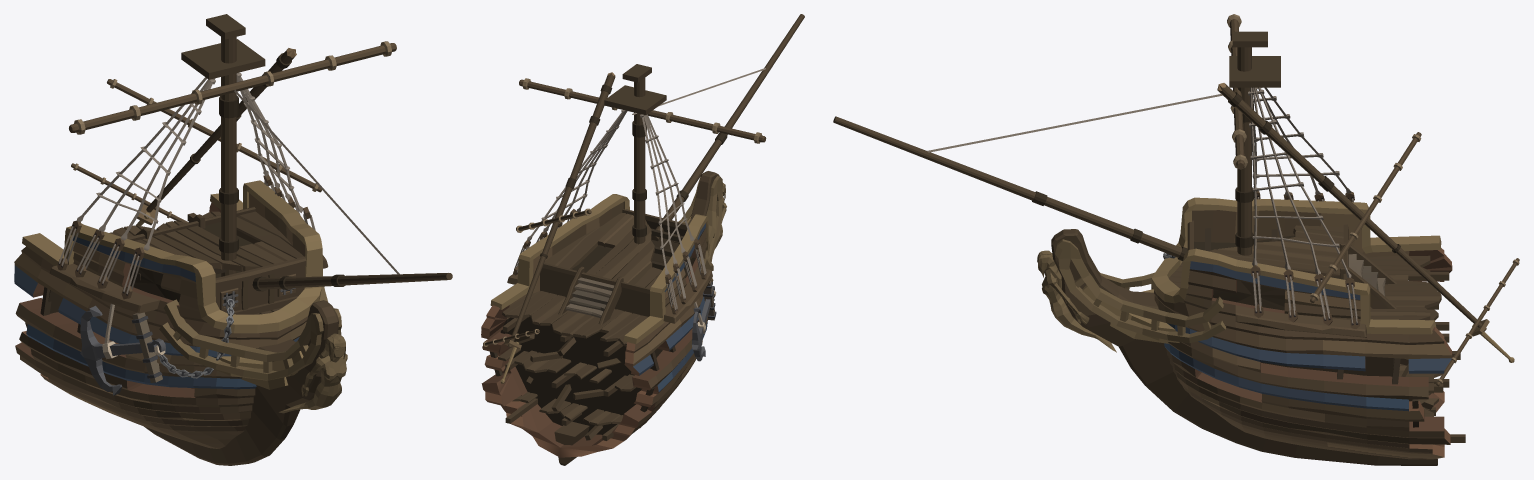
The model's file is SM_Prop_Shipwreck_03.glb.
3 renders of one model, left to right at view 1: azimuth 30°, elevation 25°; view 2: azimuth 150°, elevation 25°; view 3: azimuth 270°, elevation 25°, orthographic. The views are drawn at different scales.
Visible parts, largest first — view 1: SM_Prop_Shipwreck_03; view 2: SM_Prop_Shipwreck_03; view 3: SM_Prop_Shipwreck_03.
Part boxes in pixels (<box>): SM_Prop_Shipwreck_03: <box>14,14,452,465</box>; SM_Prop_Shipwreck_03: <box>481,14,804,465</box>; SM_Prop_Shipwreck_03: <box>833,14,1519,465</box>.
Size of what is drawn, in the model's own units: 0.1203 by 0.1615 by 0.2346.
1 material, 1 textured.
